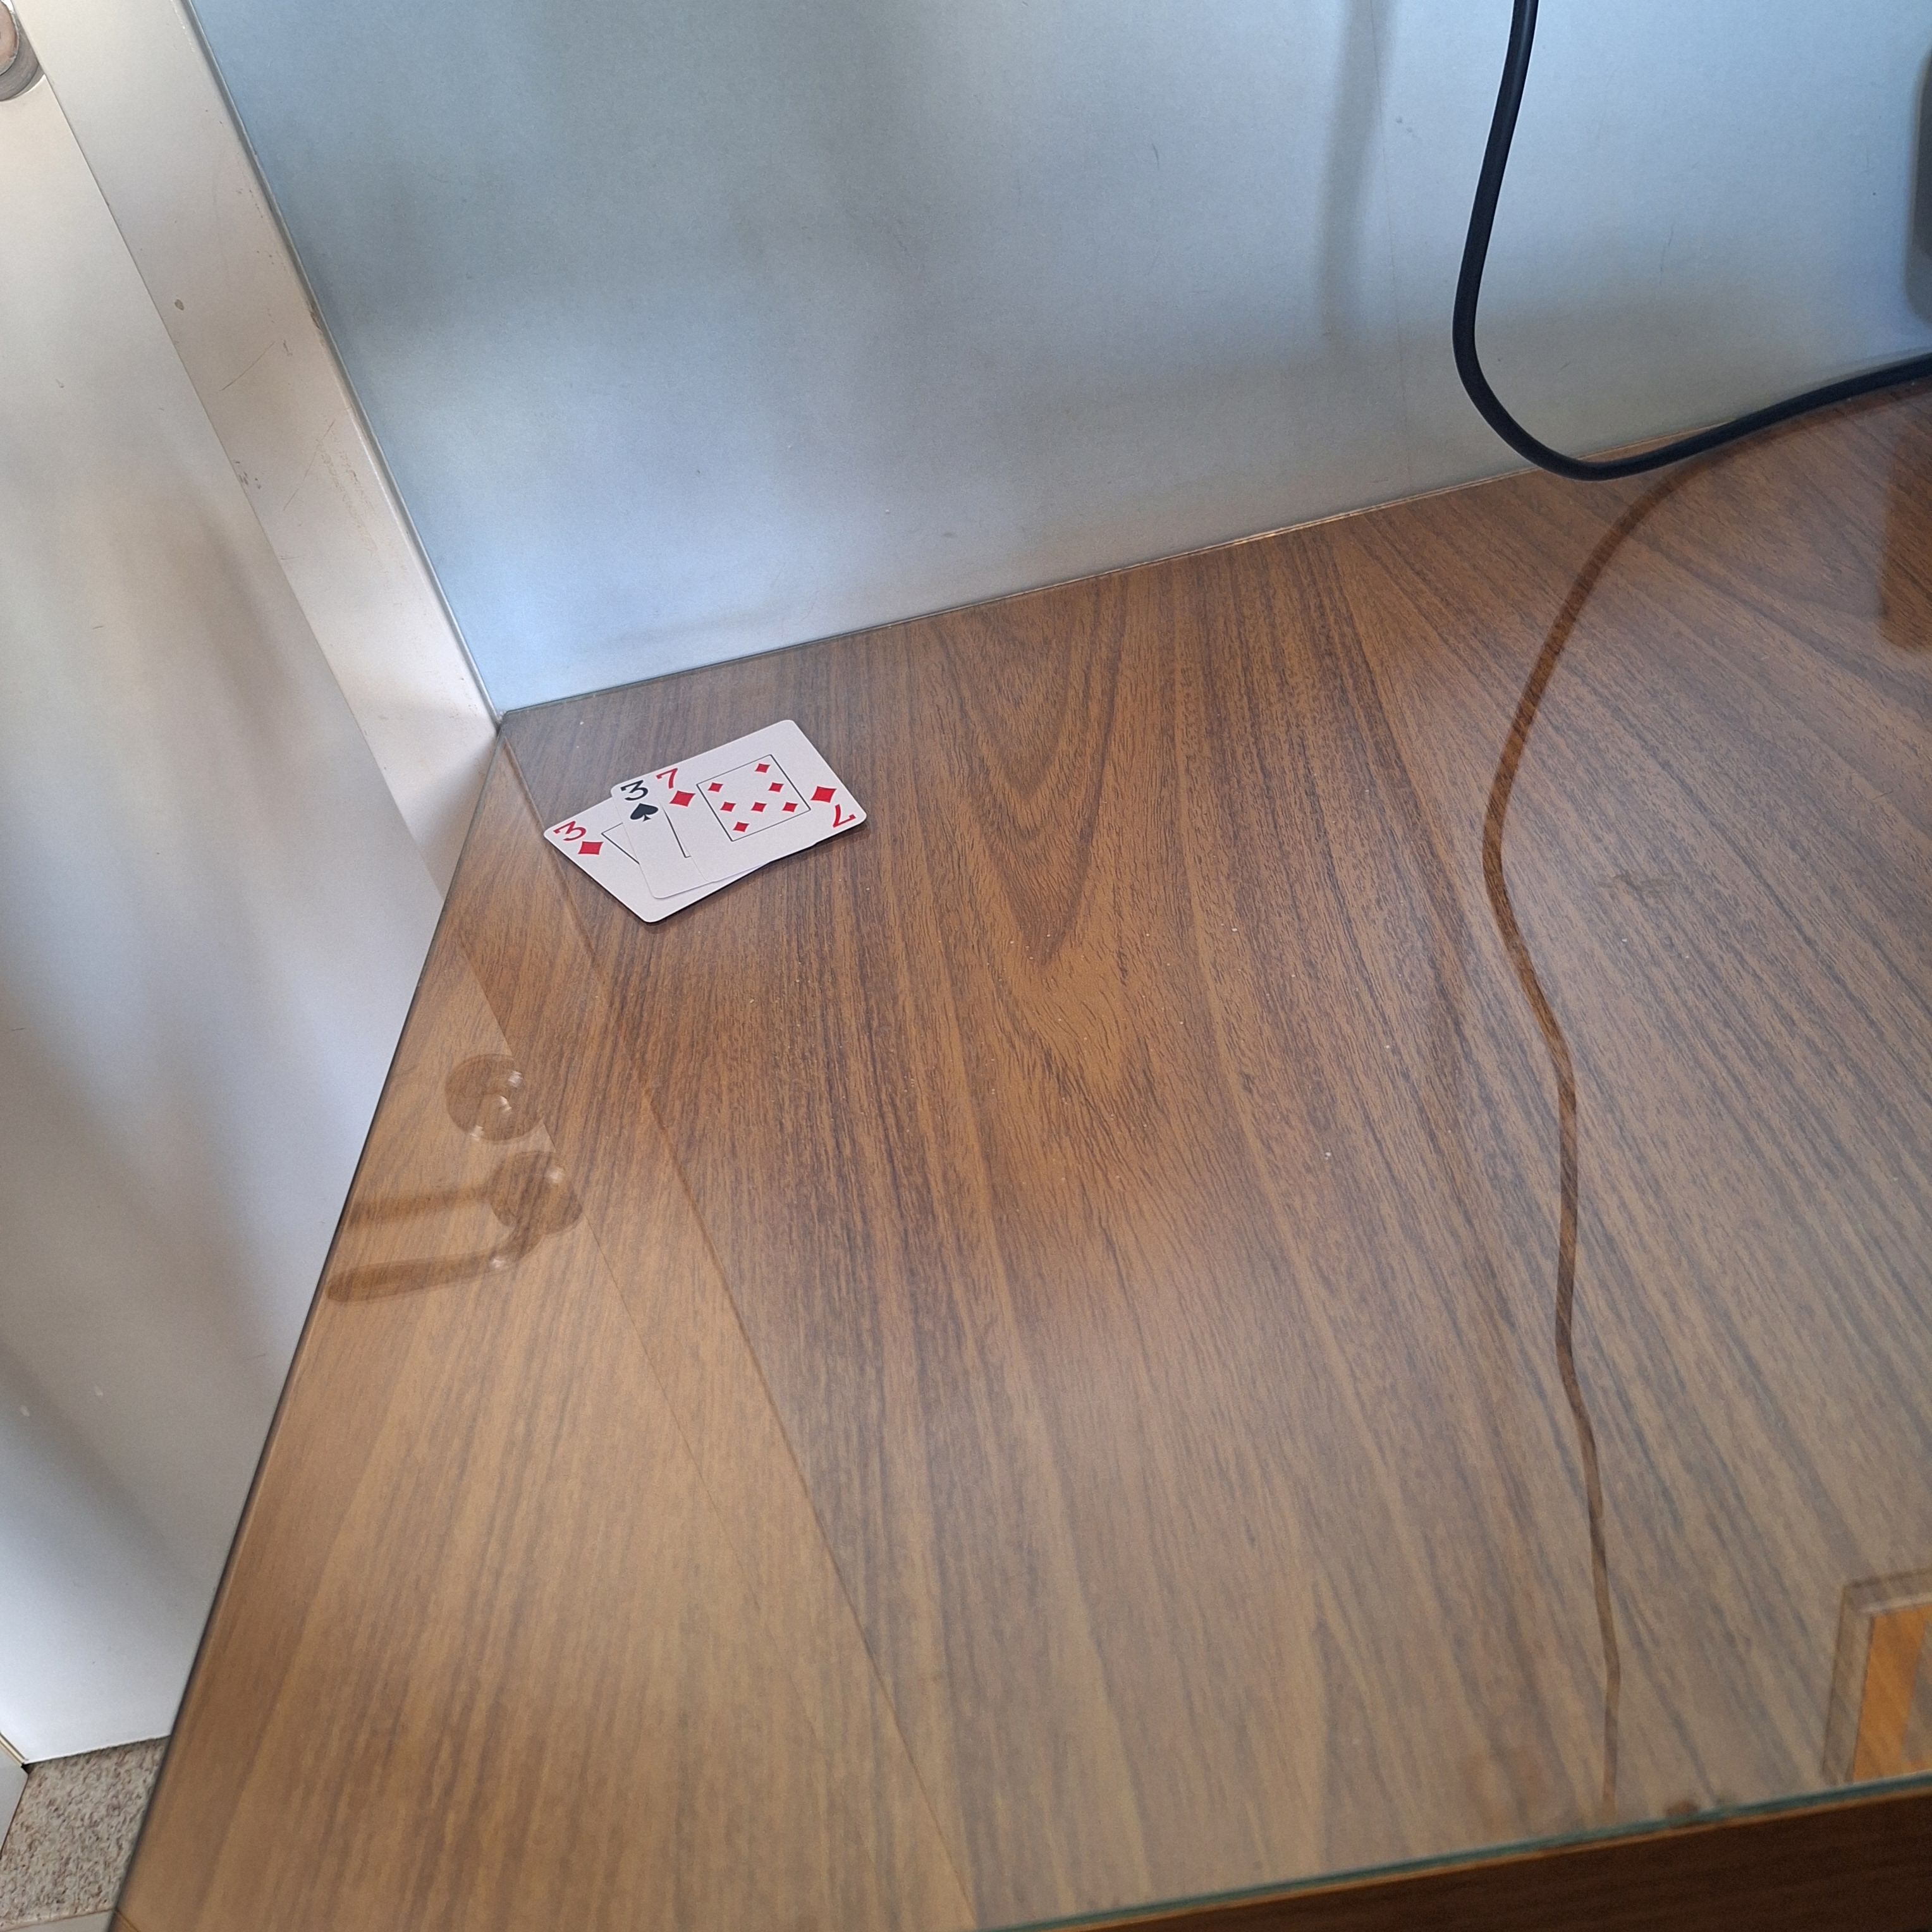3E: (616, 778, 662, 832)
3O: (547, 816, 605, 863)
7O: (807, 780, 862, 835), (656, 764, 701, 810)
